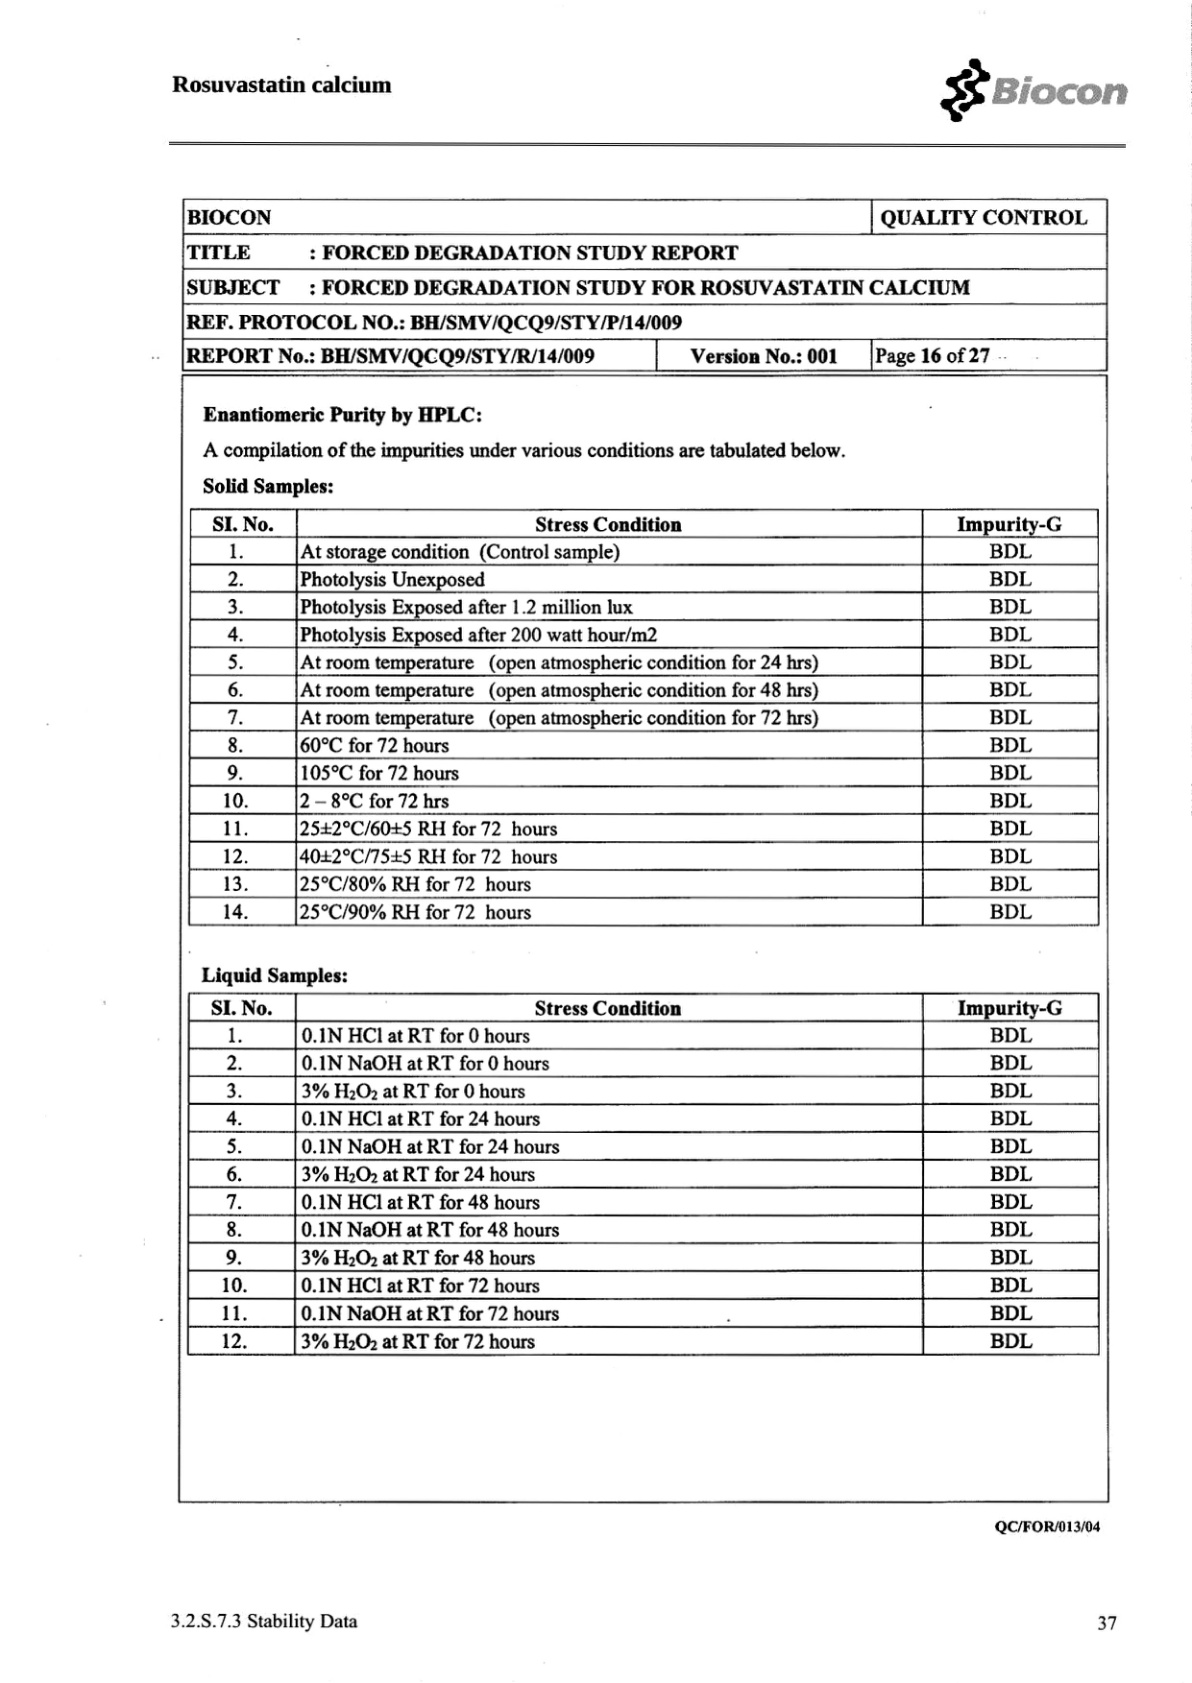full_lined: (187, 507, 1100, 929), (184, 989, 1102, 1357)
merged_cells: (181, 197, 1109, 373)
